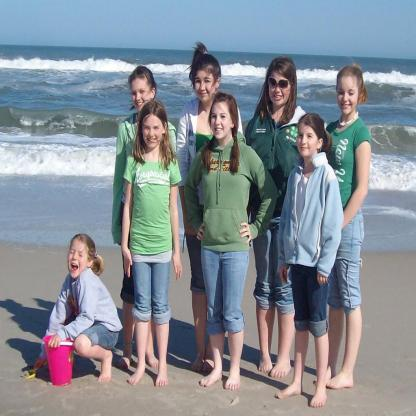face: (69, 239, 89, 279), (338, 78, 359, 116), (270, 73, 293, 107), (212, 103, 232, 140), (143, 114, 164, 148), (132, 77, 153, 111), (196, 71, 216, 103), (298, 125, 318, 157)
